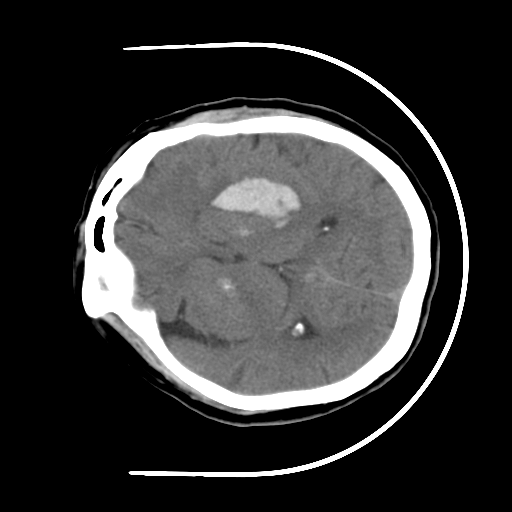a: (190, 158, 315, 242)
